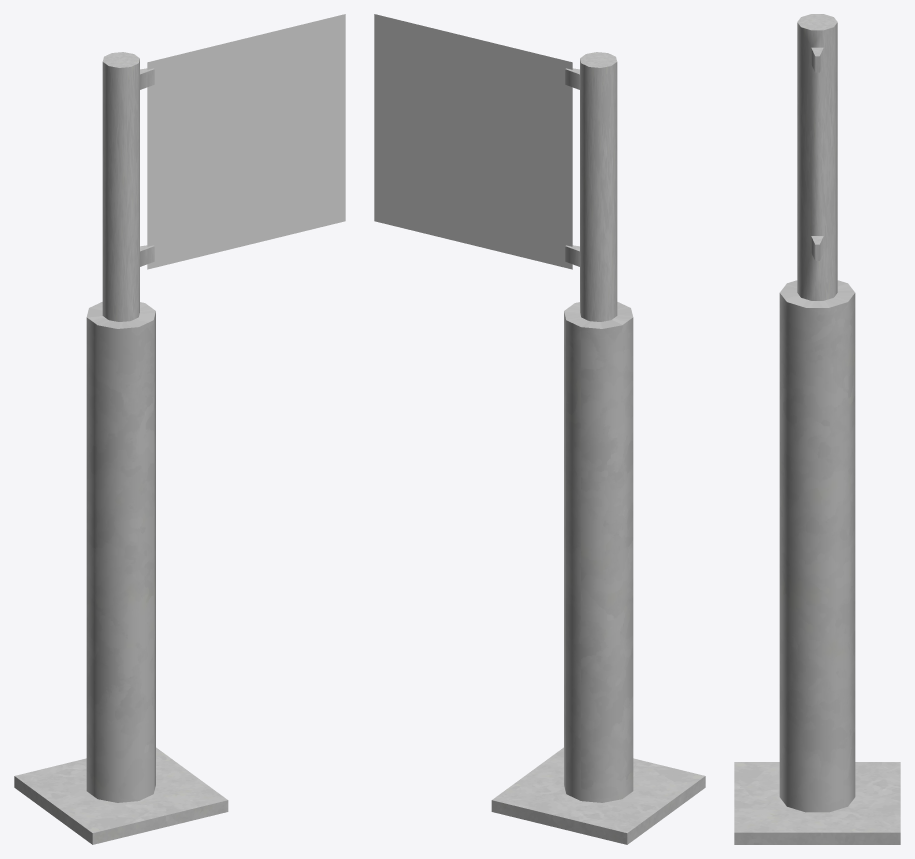
Rendered from ArrowHighwayVariant.fbx.
3 views of the same model, side by side, from view 1: azimuth 30°, elevation 25°; view 2: azimuth 150°, elevation 25°; view 3: azimuth 270°, elevation 25° (orthographic). The views are drawn at different scales.
Visible parts, largest first — view 1: BaseSupportArrow, ArrowSign; view 2: BaseSupportArrow, ArrowSign; view 3: BaseSupportArrow.
Part boxes in pixels (bbox=[...]): BaseSupportArrow: bbox=[14, 52, 228, 844]; ArrowSign: bbox=[147, 14, 345, 269]; BaseSupportArrow: bbox=[491, 52, 705, 844]; ArrowSign: bbox=[374, 14, 572, 269]; BaseSupportArrow: bbox=[734, 14, 900, 844].
Size of the model in its own units: 490 by 1186 by 227.
